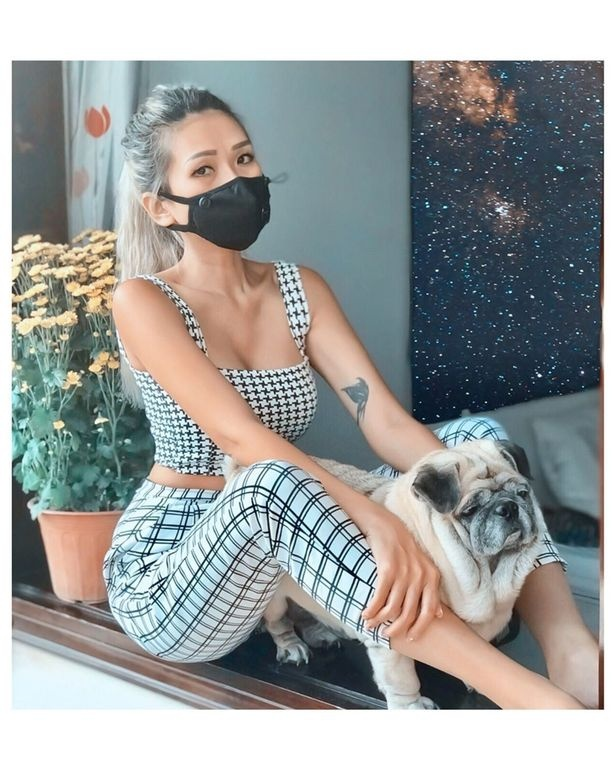with_mask: (138, 113, 281, 249)
